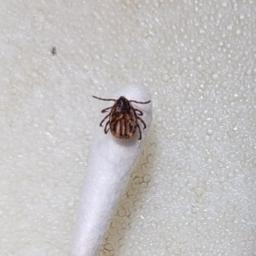Rhipicephalus sanguineus: (92, 95, 151, 140)
